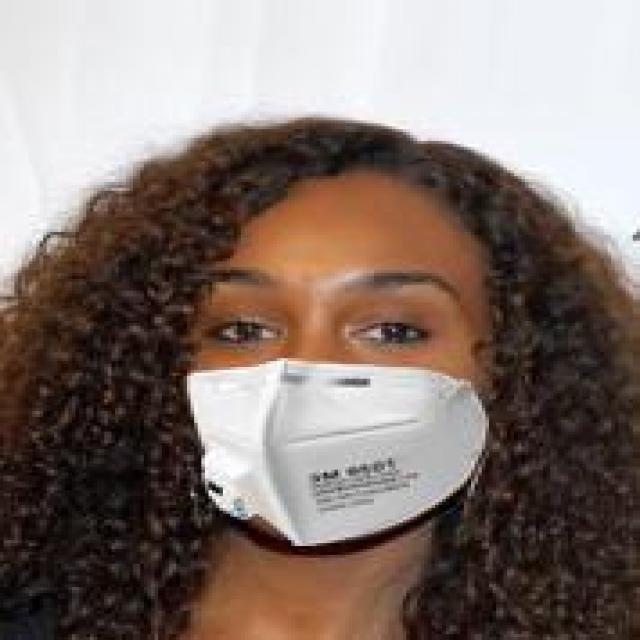mask: (136, 88, 554, 555)
